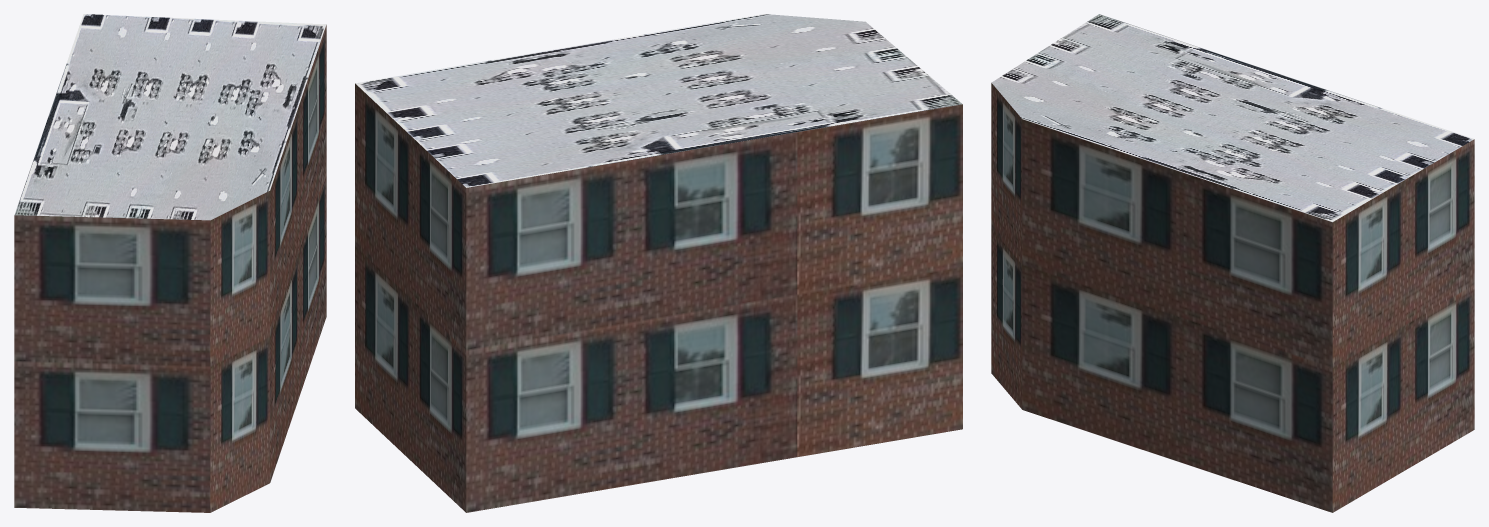
The model's file is ResTex__979.fbx.
3 renders of one model, left to right at view 1: azimuth 30°, elevation 25°; view 2: azimuth 150°, elevation 25°; view 3: azimuth 270°, elevation 25°, orthographic. The views are drawn at different scales.
Visible parts, largest first — view 1: CityEngineMaterial_14_m, CityEngineMaterial_8_m; view 2: CityEngineMaterial_14_m, CityEngineMaterial_8_m; view 3: CityEngineMaterial_14_m, CityEngineMaterial_8_m.
Boxes of the visible parts, left/top/right/bottom form: CityEngineMaterial_14_m: left=14, top=25, right=326, bottom=512; CityEngineMaterial_8_m: left=14, top=14, right=326, bottom=220; CityEngineMaterial_14_m: left=355, top=83, right=962, bottom=512; CityEngineMaterial_8_m: left=355, top=14, right=962, bottom=187; CityEngineMaterial_14_m: left=991, top=83, right=1474, bottom=512; CityEngineMaterial_8_m: left=991, top=14, right=1474, bottom=222.
Size of the model in its own units: 9.22 by 6 by 9.04.
Materials: 2 (2 with a texture image).
